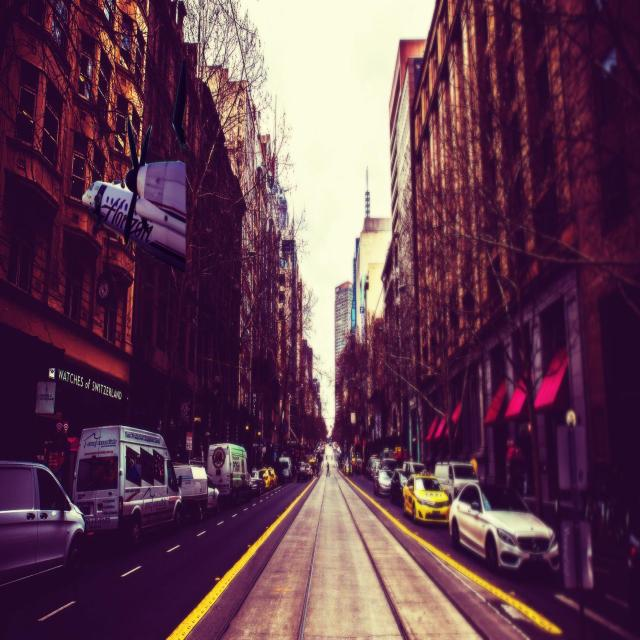airplane: (80, 111, 187, 257)
